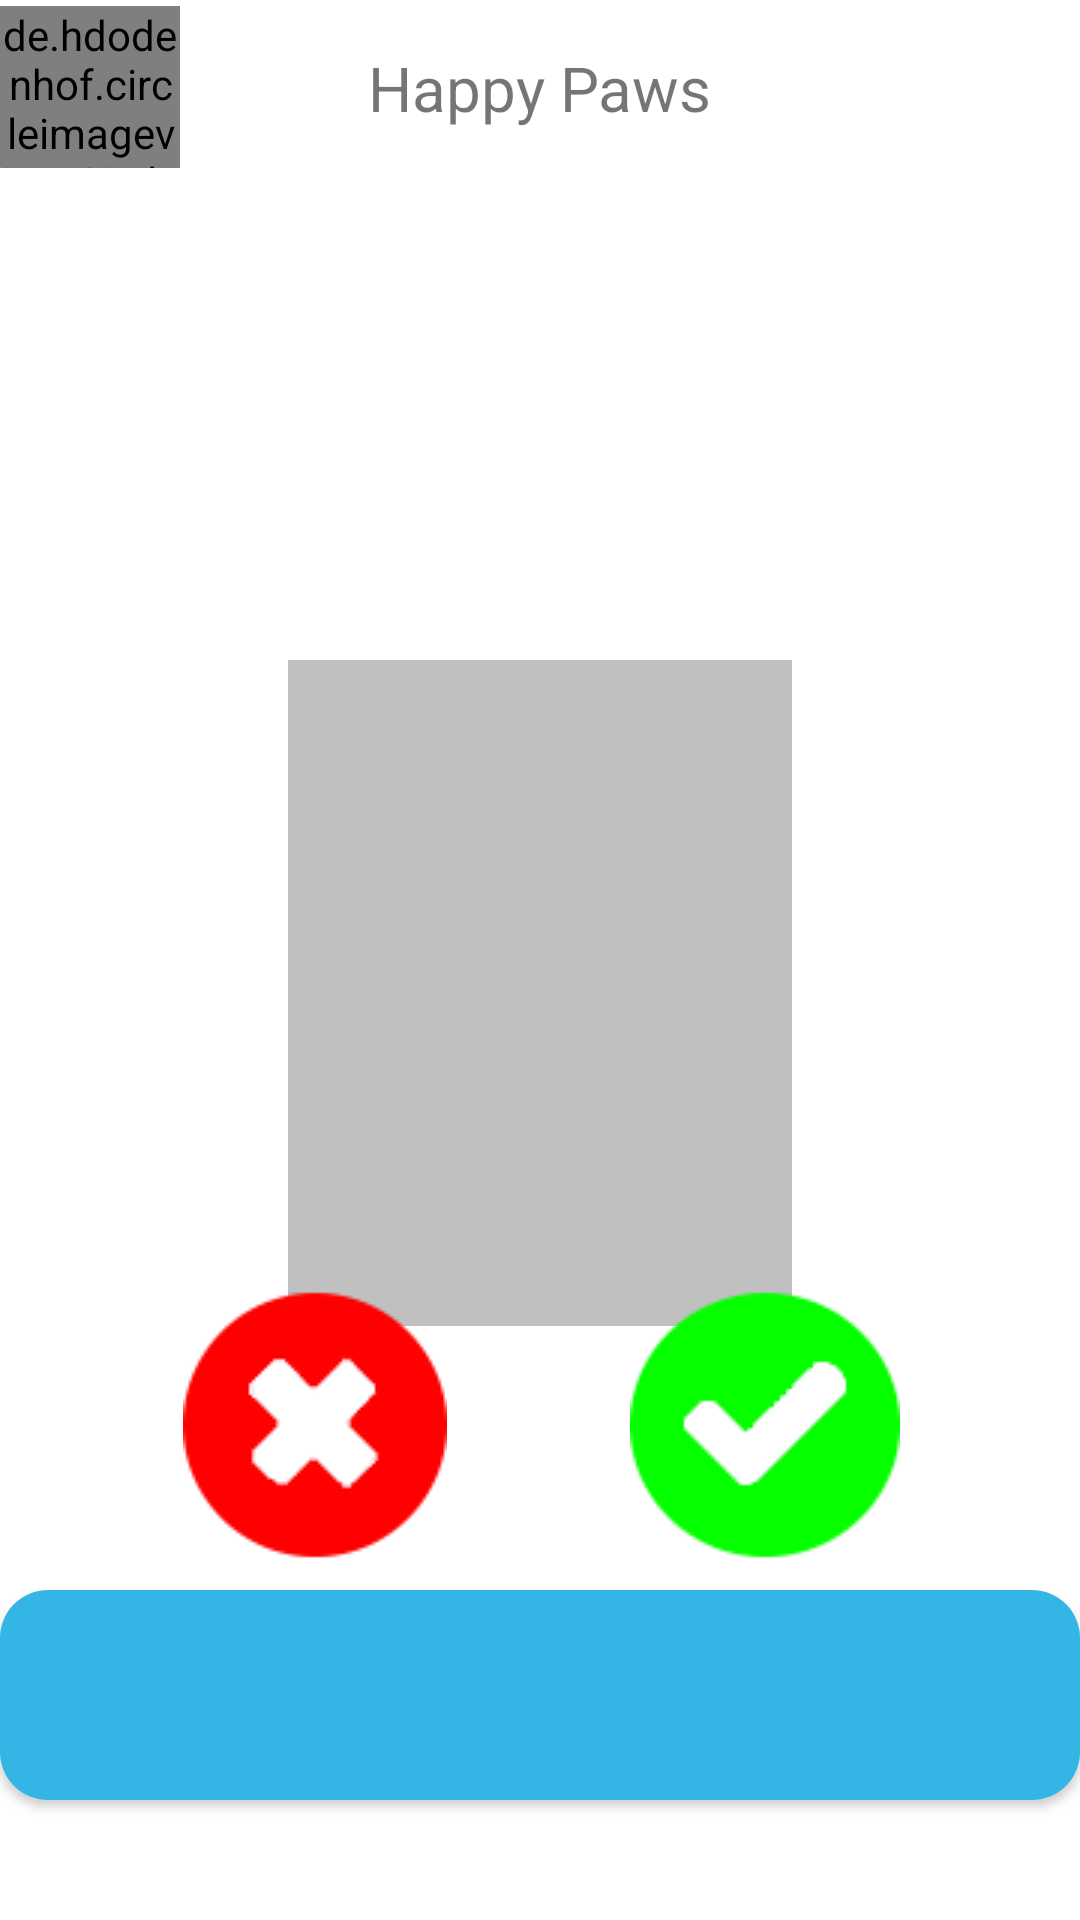

Named icons in this screenshot (1080x1920) and their centers, (x=x, y=y):
Swipe left: (x=316, y=1424)
Swipe right: (x=765, y=1424)
